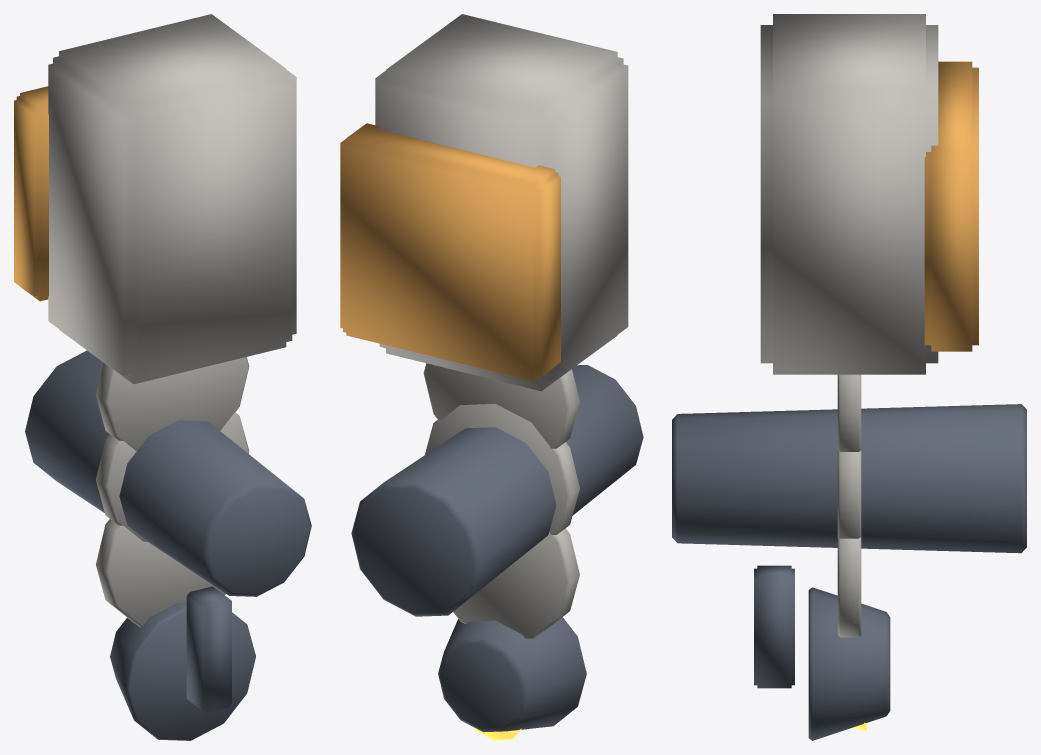
Rendered from flamethrower.glb.
3 views of the same model, side by side, from view 1: azimuth 30°, elevation 25°; view 2: azimuth 150°, elevation 25°; view 3: azimuth 270°, elevation 25° (orthographic). The views are drawn at different scales.
Parts seen in each view (by area): view 1: flamethrower; view 2: flamethrower; view 3: flamethrower.
Part boxes in pixels (bbox=[...]): flamethrower: bbox=[14, 14, 311, 740]; flamethrower: bbox=[340, 14, 643, 740]; flamethrower: bbox=[672, 14, 1026, 740].
Bounding box in the file's own units: 0.34 × 1.1 × 0.52.
